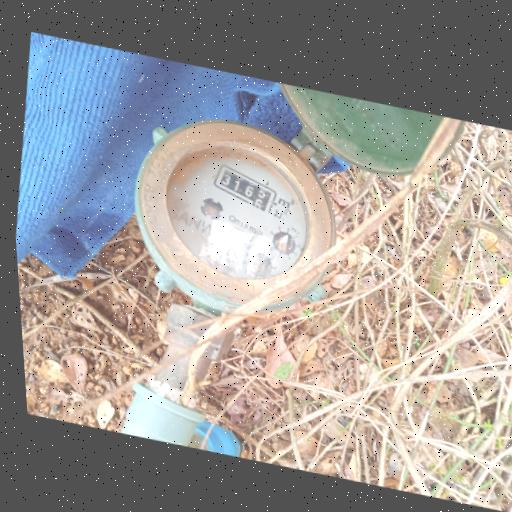1: (230, 174, 250, 197)
3: (218, 167, 239, 191)
5: (249, 185, 273, 213)
6: (241, 181, 260, 203)
border_water_meter_number: (208, 161, 282, 216)
